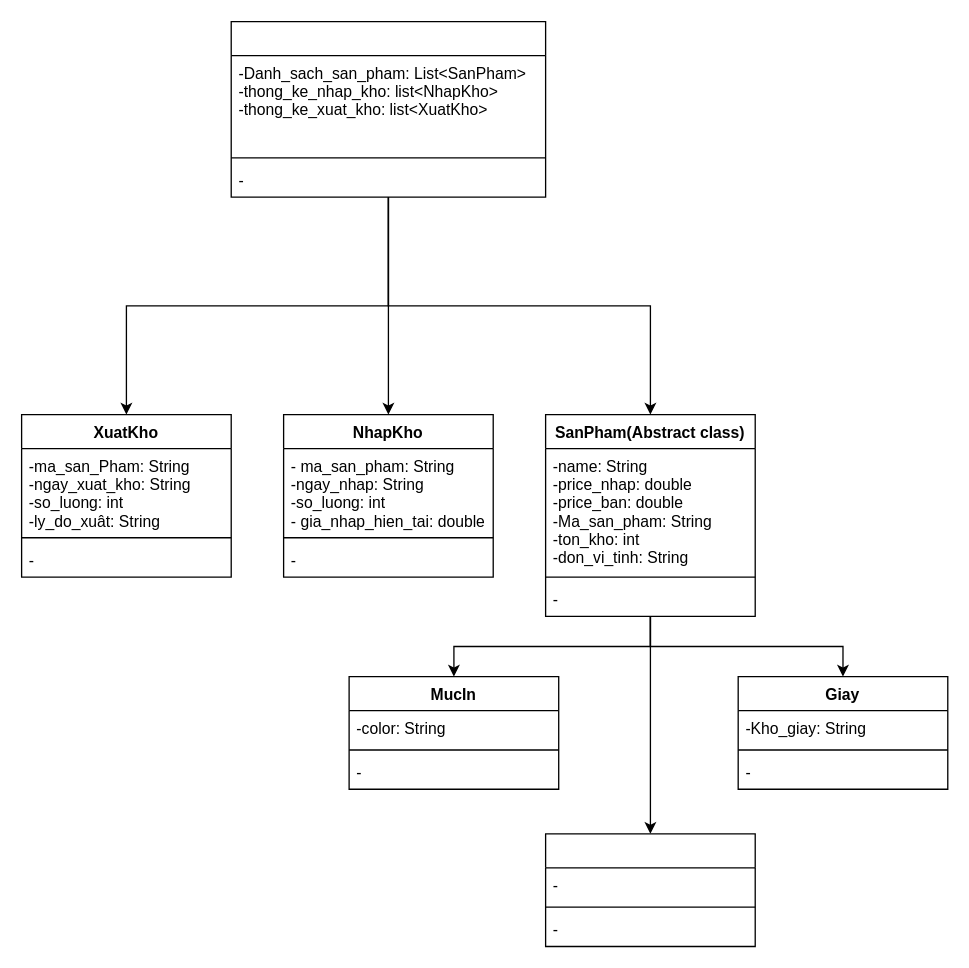
This 969x968 diagram has some shape labels left out. Each missing label, with the box of its shape:
QuanLyKho: (230, 20, 546, 197)
VatTu: (544, 833, 755, 946)
